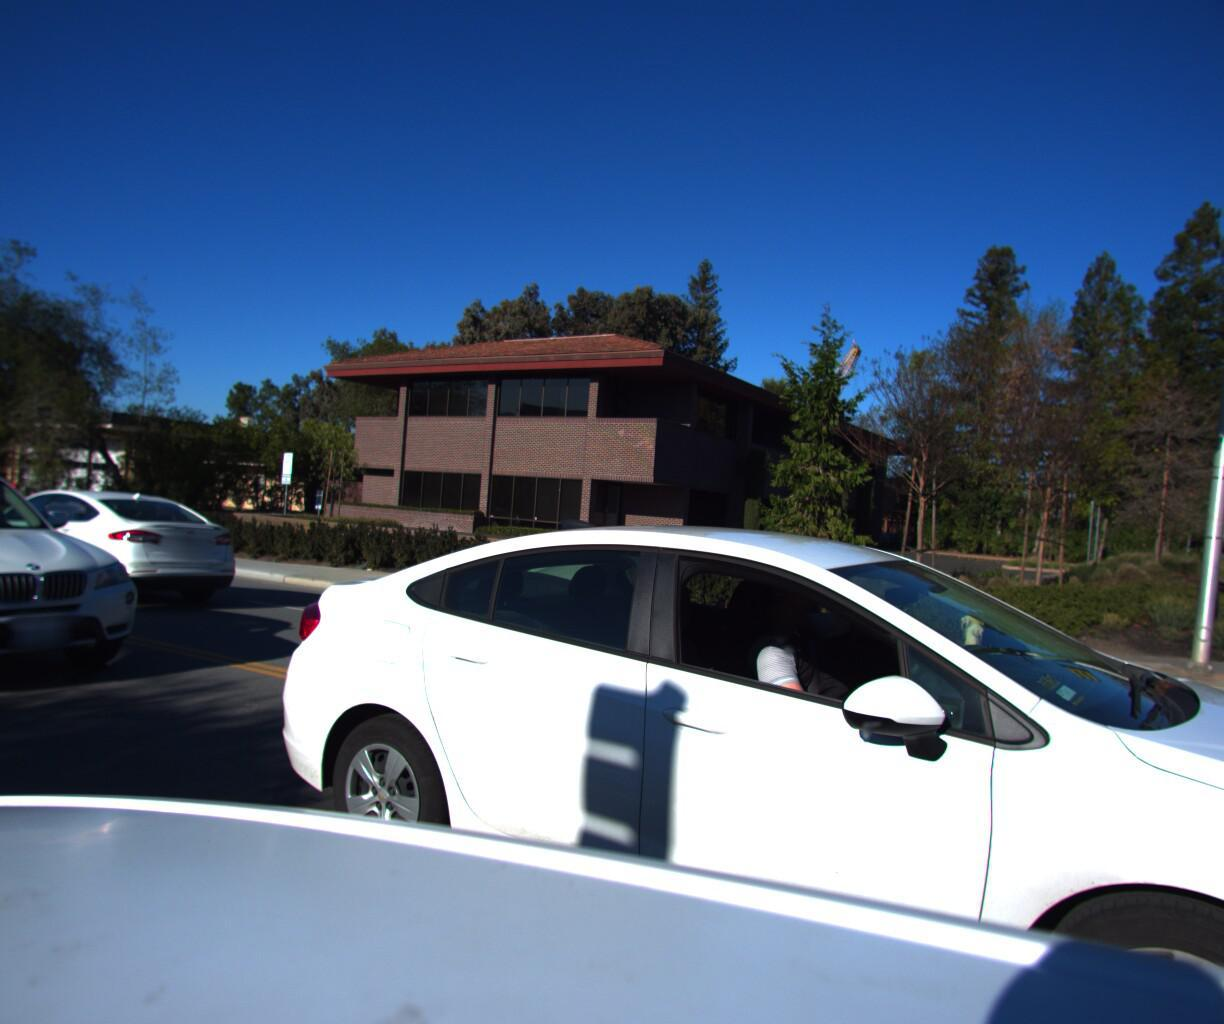car: (212, 489, 1224, 1024), (0, 434, 161, 725), (0, 472, 257, 609)
